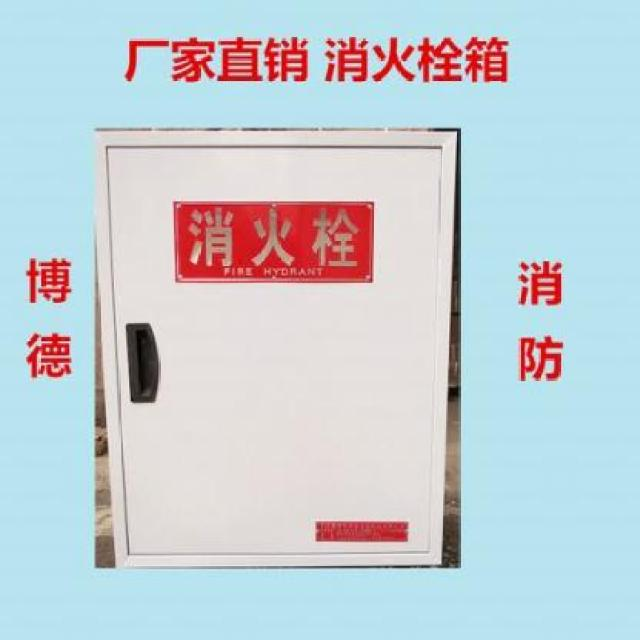firehydrant: (97, 128, 461, 570)
